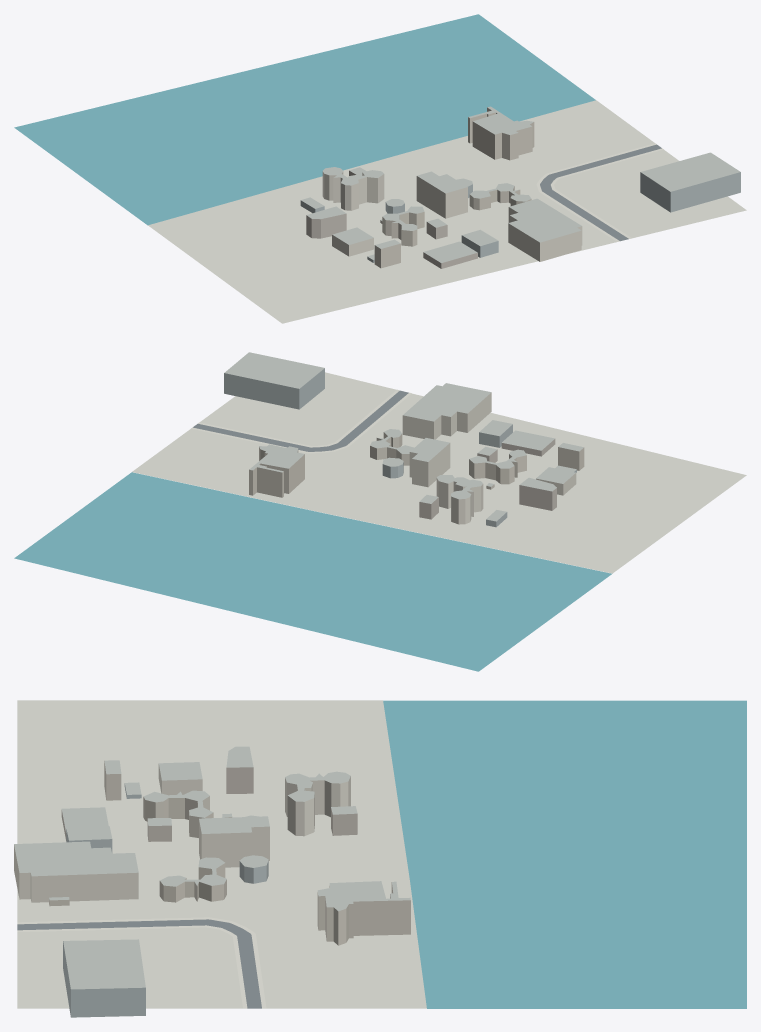
3 views of the same model, one above another, from view 1: azimuth 30°, elevation 25°; view 2: azimuth 150°, elevation 25°; view 3: azimuth 270°, elevation 25° (orthographic). The views are drawn at different scales.
Parts seen in each view (by area): view 1: city; view 2: city; view 3: city.
Boxes of the visible parts, bbox=[...] form: city: bbox=[14, 14, 746, 323]; city: bbox=[14, 352, 746, 671]; city: bbox=[14, 700, 746, 1017].
Size of the model in its own units: 515 by 26.18 by 502.
